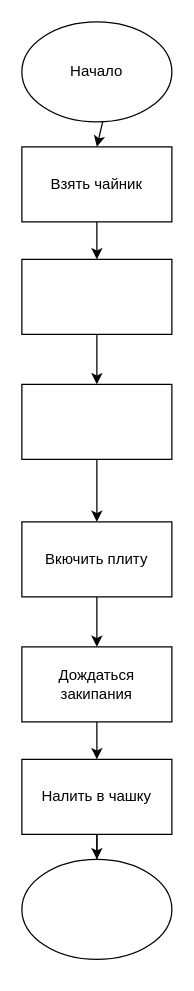
The diagram is 194 pixels wide and 991 high, and some of its shapes have lost their labels. Each missing label, with the centre of its shape:
"Налить воду" goes at pixel 96 296.
"Поставить на плиту" goes at pixel 96 421.
